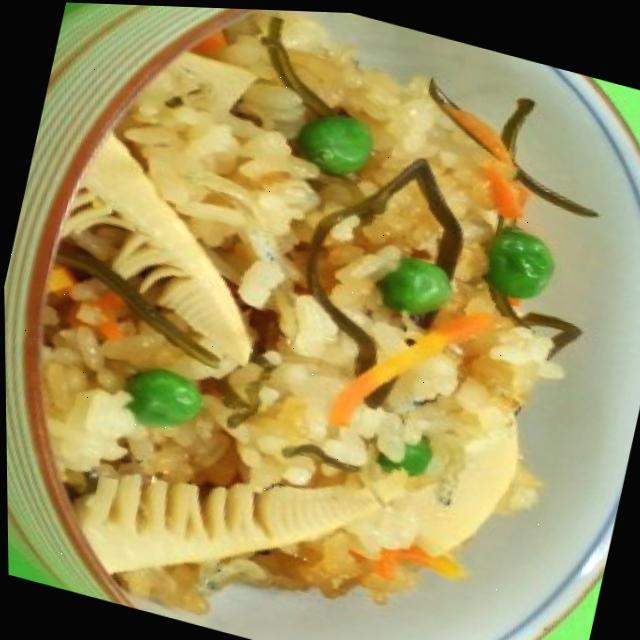米饭主食: (16, 0, 608, 640)
